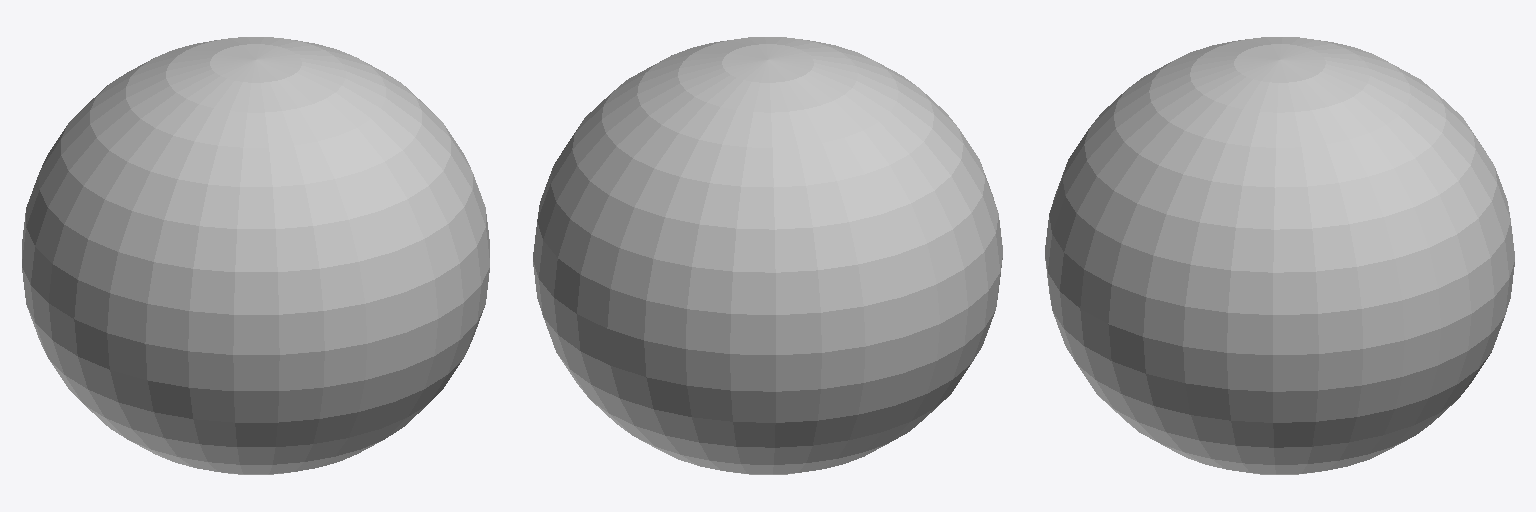
Rendered from saturn.obj.
3 renders of one model, left to right at view 1: azimuth 30°, elevation 25°; view 2: azimuth 150°, elevation 25°; view 3: azimuth 270°, elevation 25°, orthographic.
Visible parts, largest first — view 1: Saturn_Sphere.005; view 2: Saturn_Sphere.005; view 3: Saturn_Sphere.005.
Part boxes in pixels (x1,y1,x2,y2): Saturn_Sphere.005: (22, 37, 489, 474); Saturn_Sphere.005: (533, 37, 1002, 474); Saturn_Sphere.005: (1045, 37, 1514, 474).
Size of the model in its own units: 8.4 by 7.73 by 8.4.